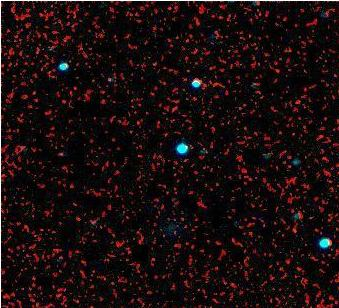star: (279, 215, 309, 245)
